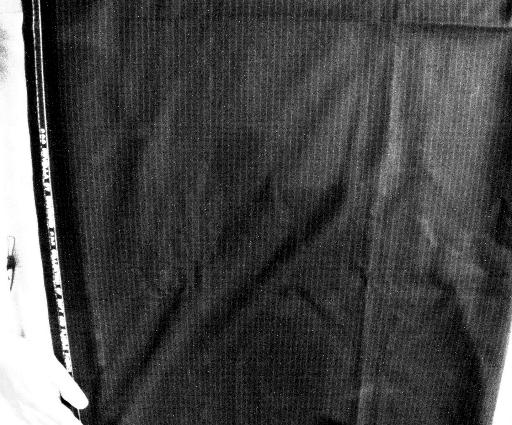fabric_perfect: (2, 1, 512, 425)
